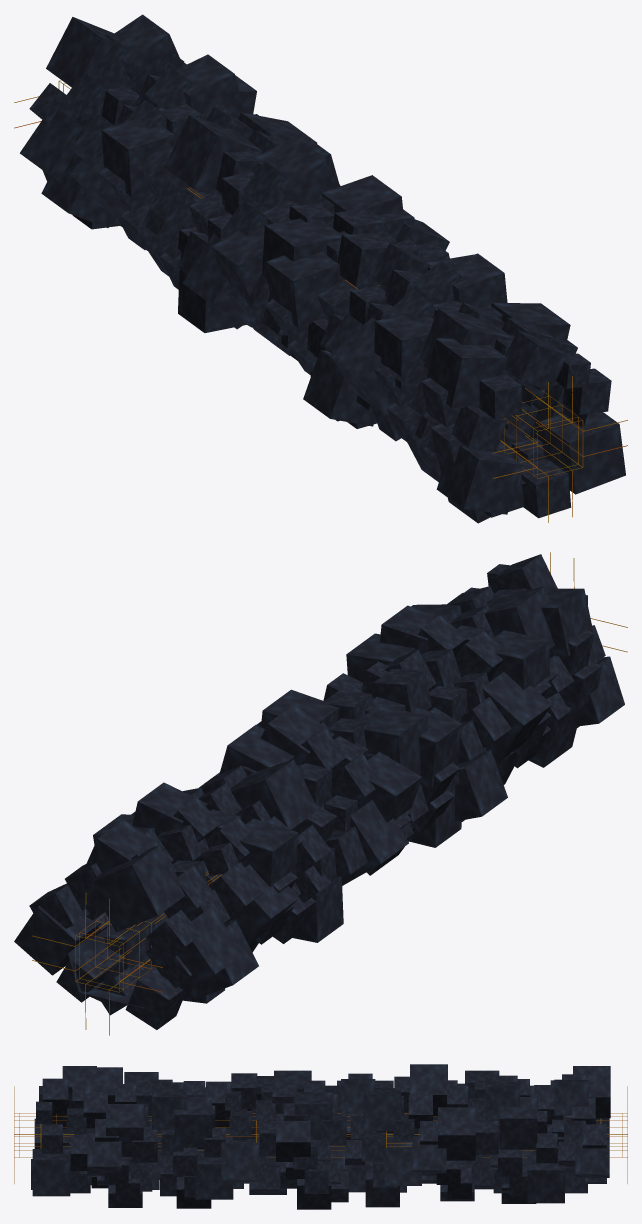
File: tunnel.glb
The picture shows the model from 3 angles, top to bottom: view 1: azimuth 30°, elevation 25°; view 2: azimuth 150°, elevation 25°; view 3: azimuth 270°, elevation 25°; orthographic projection. The views are drawn at different scales.
Parts seen in each view (by area): view 1: tunnel, tunnel.004, tunnel.001, tunnel.002, tunnel.003, tunnel.005, grid; view 2: tunnel.005, tunnel.001, tunnel.004, tunnel.003, tunnel, tunnel.002, grid.002; view 3: tunnel, tunnel.005, tunnel.002, tunnel.004, tunnel.001, tunnel.003, grid, grid.001, grid.002.
Boxes of the visible parts, <box> form: tunnel: <box>386,302,625,523</box>; tunnel.004: <box>69,54,317,289</box>; tunnel.001: <box>303,242,507,482</box>; tunnel.002: <box>234,175,449,421</box>; tunnel.003: <box>178,133,367,355</box>; tunnel.005: <box>20,14,256,229</box>; grid: <box>493,376,627,522</box>; tunnel.005: <box>14,814,264,1029</box>; tunnel.001: <box>346,605,551,821</box>; tunnel.004: <box>131,759,331,952</box>; tunnel.003: <box>215,704,421,942</box>; tunnel: <box>411,554,624,768</box>; tunnel.002: <box>257,661,462,875</box>; grid.002: <box>32,893,164,1035</box>; tunnel: <box>31,1066,143,1207</box>; tunnel.005: <box>498,1066,610,1203</box>; tunnel.002: <box>221,1070,332,1209</box>; tunnel.004: <box>408,1064,520,1201</box>; tunnel.001: <box>124,1072,233,1208</box>; tunnel.003: <box>314,1073,421,1207</box>; grid: <box>14,1086,74,1183</box>; grid.001: <box>148,1113,535,1157</box>; grid.002: <box>567,1086,627,1183</box>.
Size of the model in its own units: 14.58 by 14.43 by 61.8.
2 materials, 2 textured.
